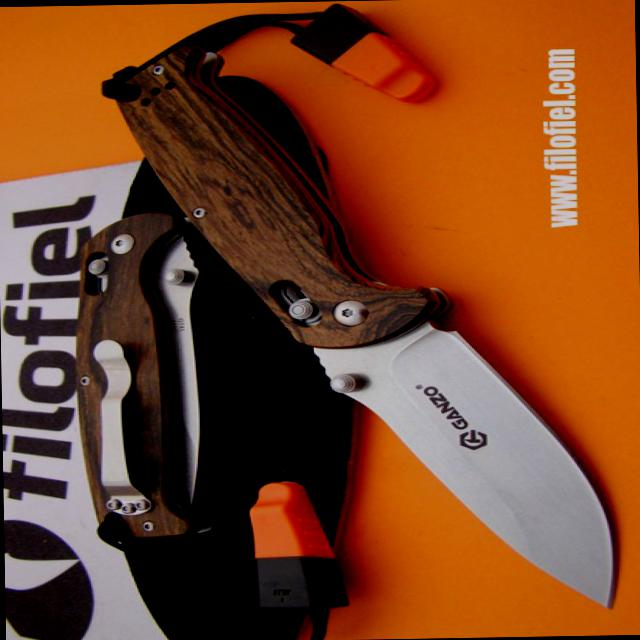knife: (304, 320, 626, 622)
